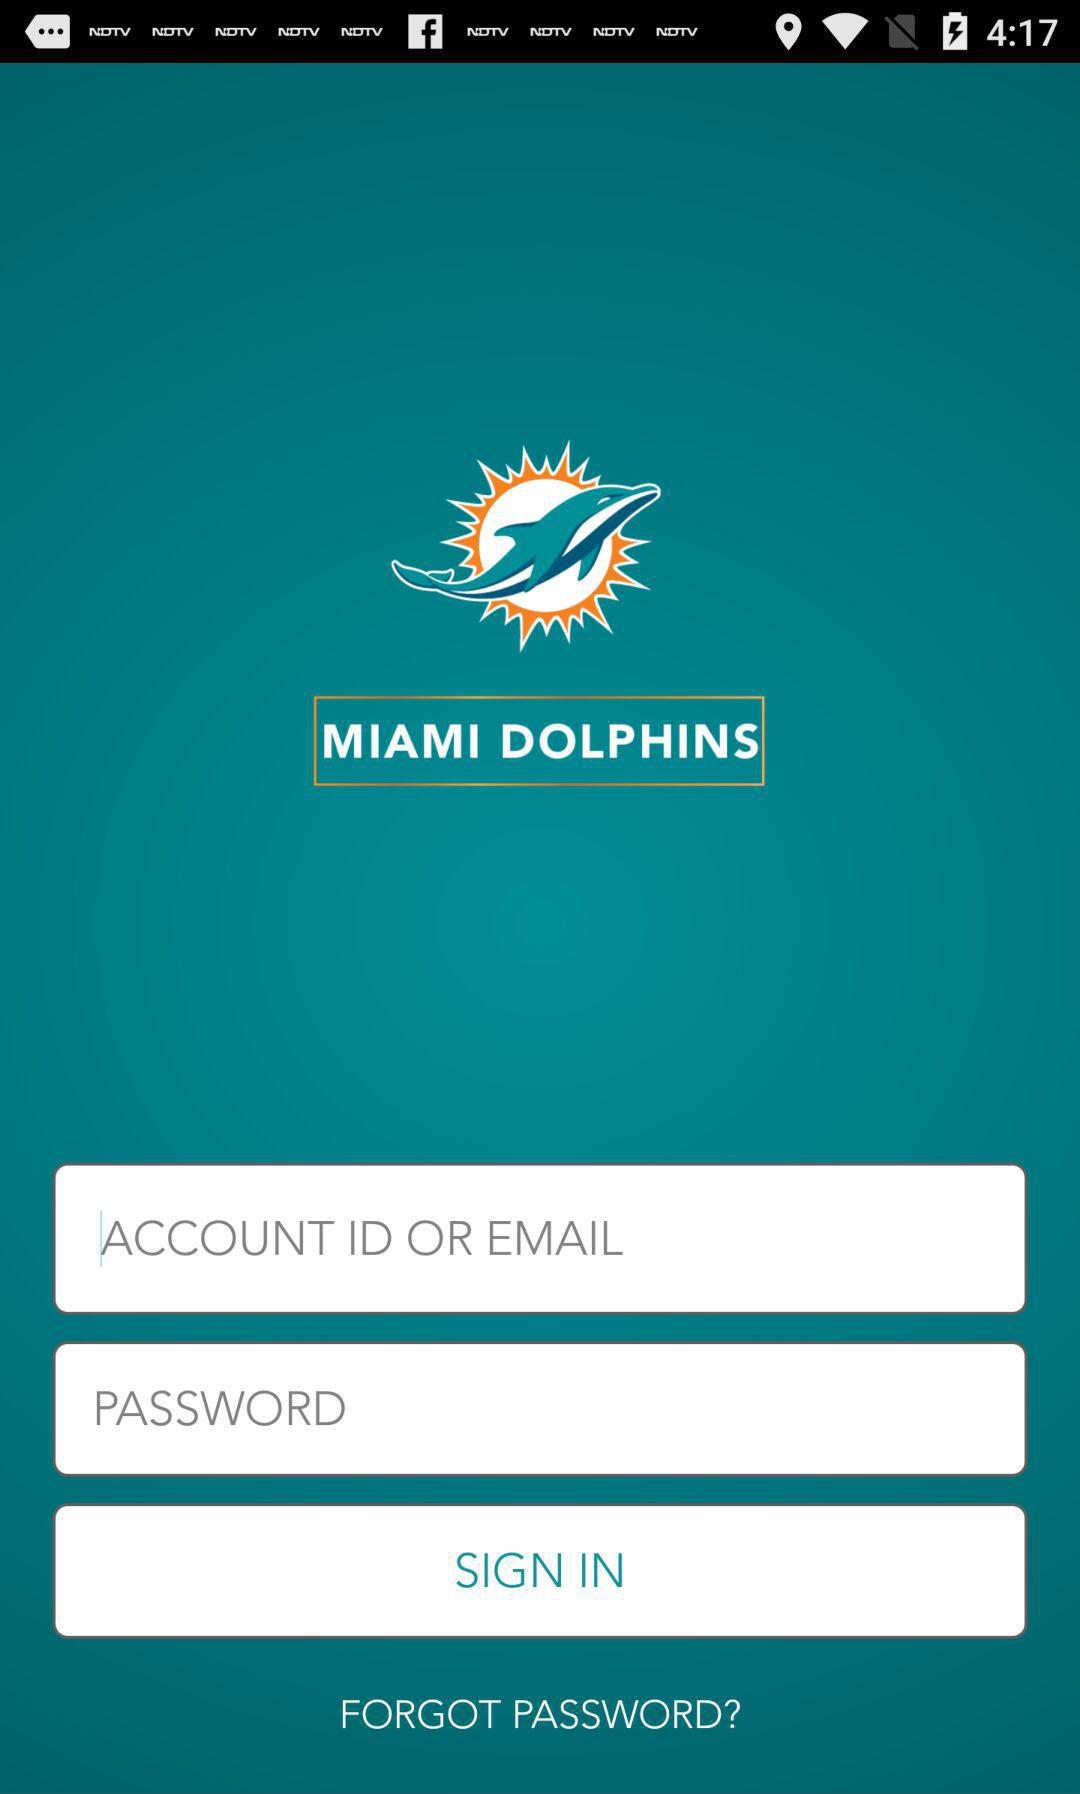EditText: (53, 1164, 1027, 1315), (53, 1342, 1027, 1477)
Image: (391, 440, 662, 654), (313, 695, 766, 788)
Text: (101, 1220, 625, 1256), (342, 1699, 740, 1730), (97, 1389, 347, 1428)
TextButton: (53, 1503, 1027, 1639)
UpperTaskBar: (1, 1, 1080, 64)
